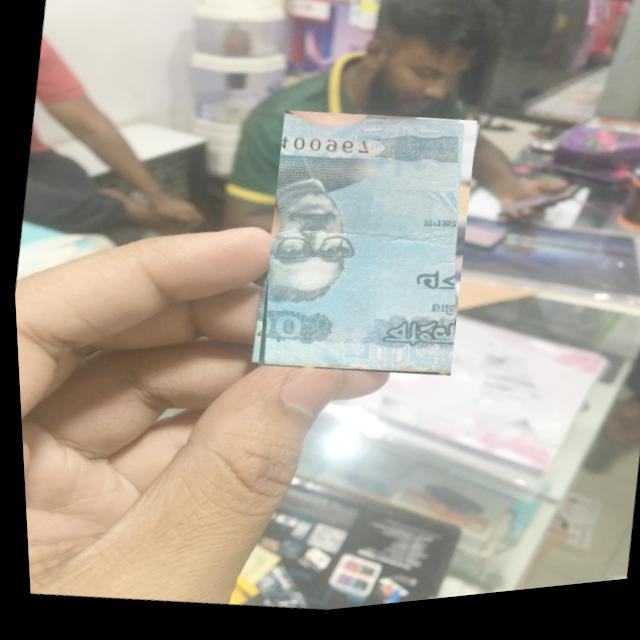Taka: (243, 100, 486, 401)
